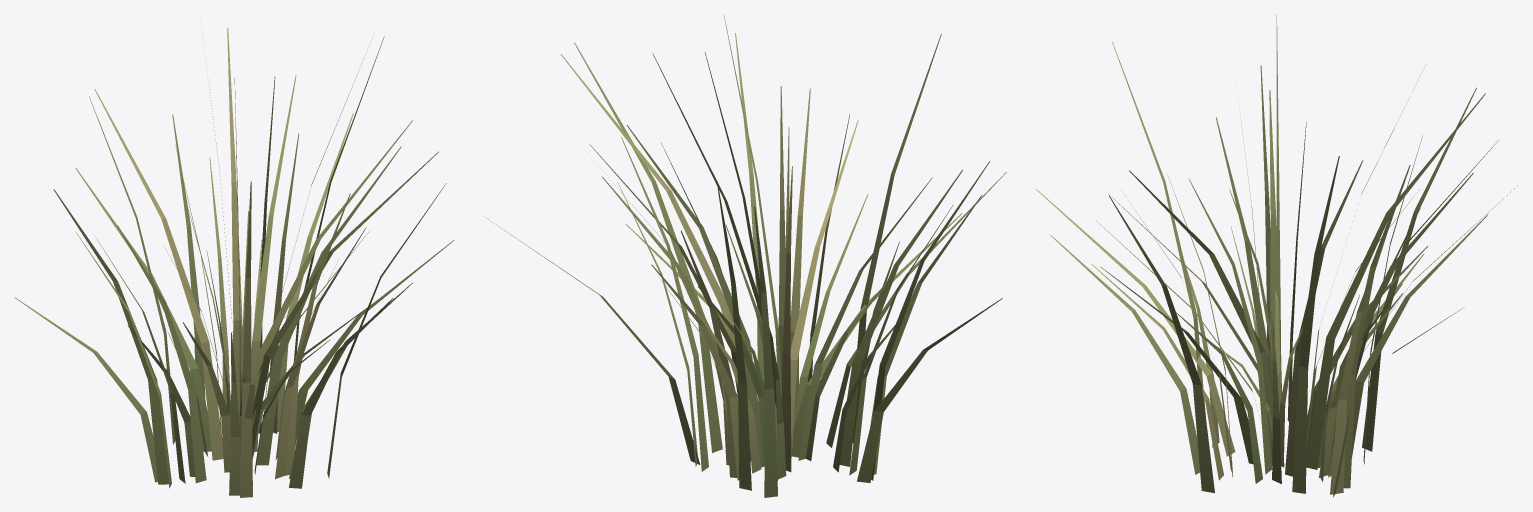
Rendered from grass_tuft.glb.
The picture shows the model from 3 angles, left to right: view 1: azimuth 30°, elevation 25°; view 2: azimuth 150°, elevation 25°; view 3: azimuth 270°, elevation 25°; orthographic projection. The views are drawn at different scales.
Visible parts, largest first — view 1: grass_tuft; view 2: grass_tuft; view 3: grass_tuft.
Part boxes in pixels (x1=…): grass_tuft: x1=14, y1=27, x2=454, y2=497; grass_tuft: x1=484, y1=14, x2=1006, y2=497; grass_tuft: x1=1036, y1=14, x2=1514, y2=496.
Size of the model in its own units: 0.9318 by 0.7942 by 0.8723.
